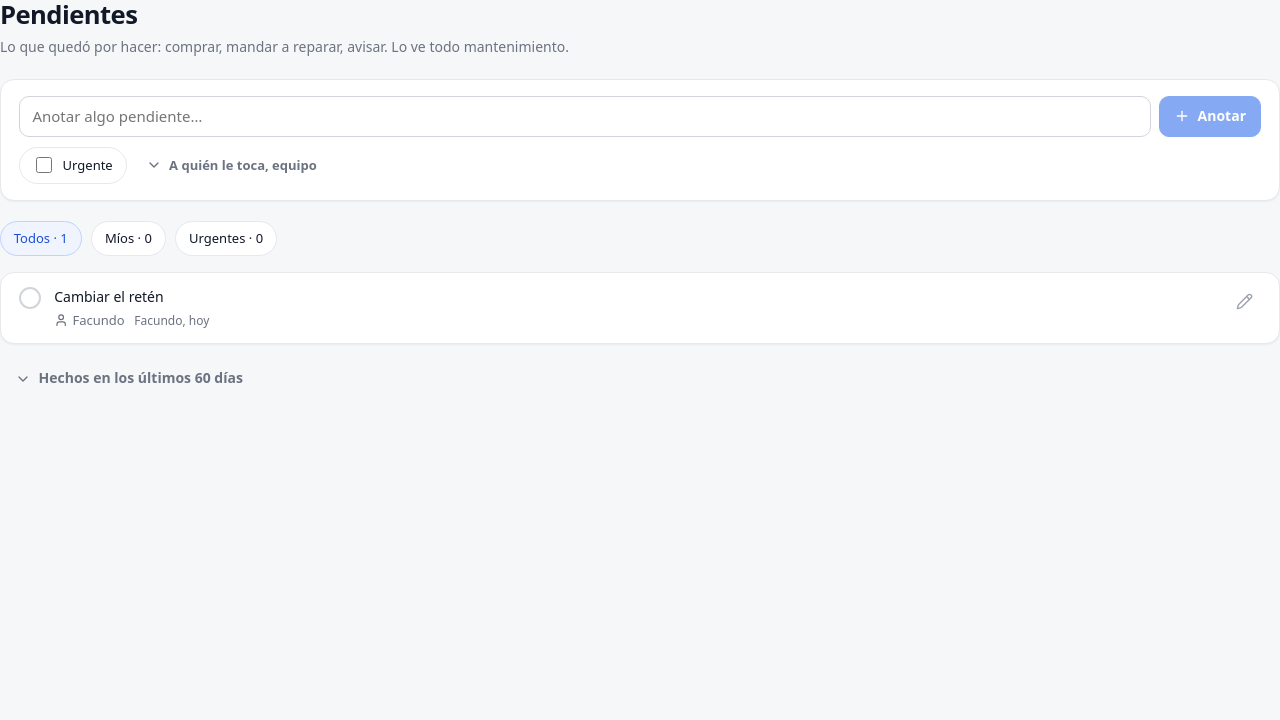
PendientesPage › si le toca a otro, no lo puede dar por hecho
Click the button named "Marcar como hecho: Cambiar el retén" at x=30, y=298, box [19,287,41,309]
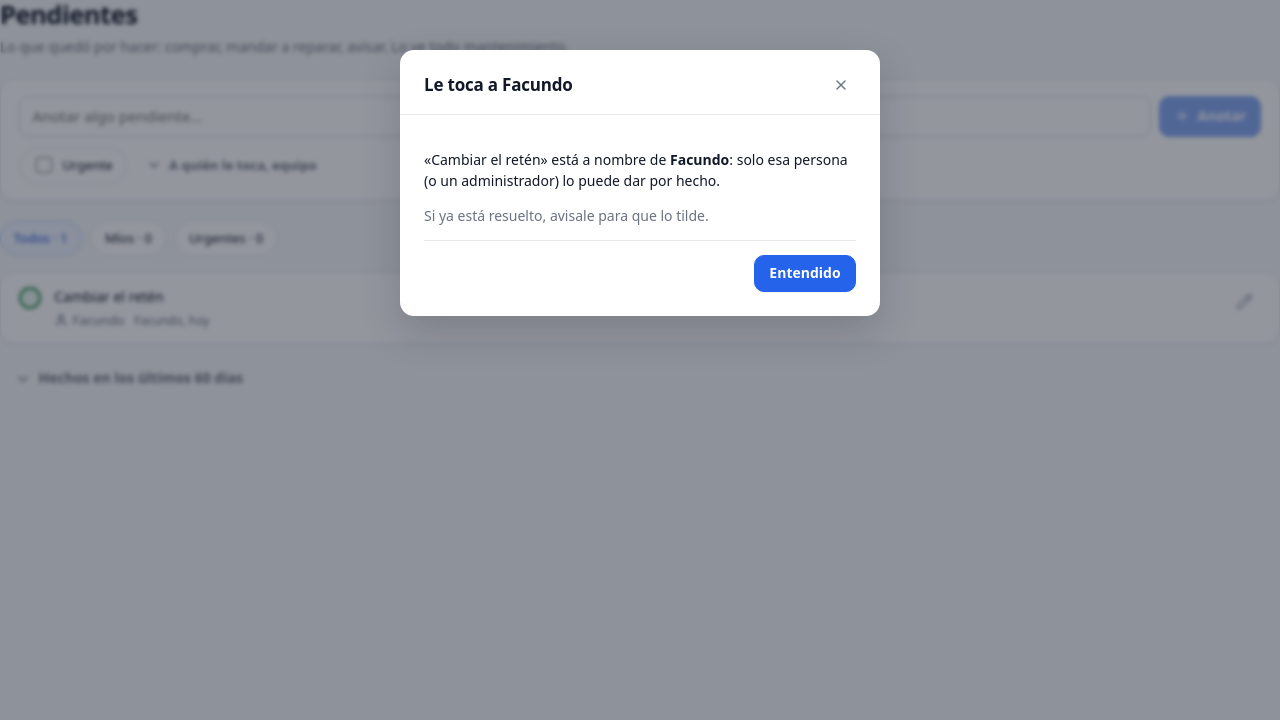
Check: the text "solo esa persona" is shown, box [424,150,848,190]
